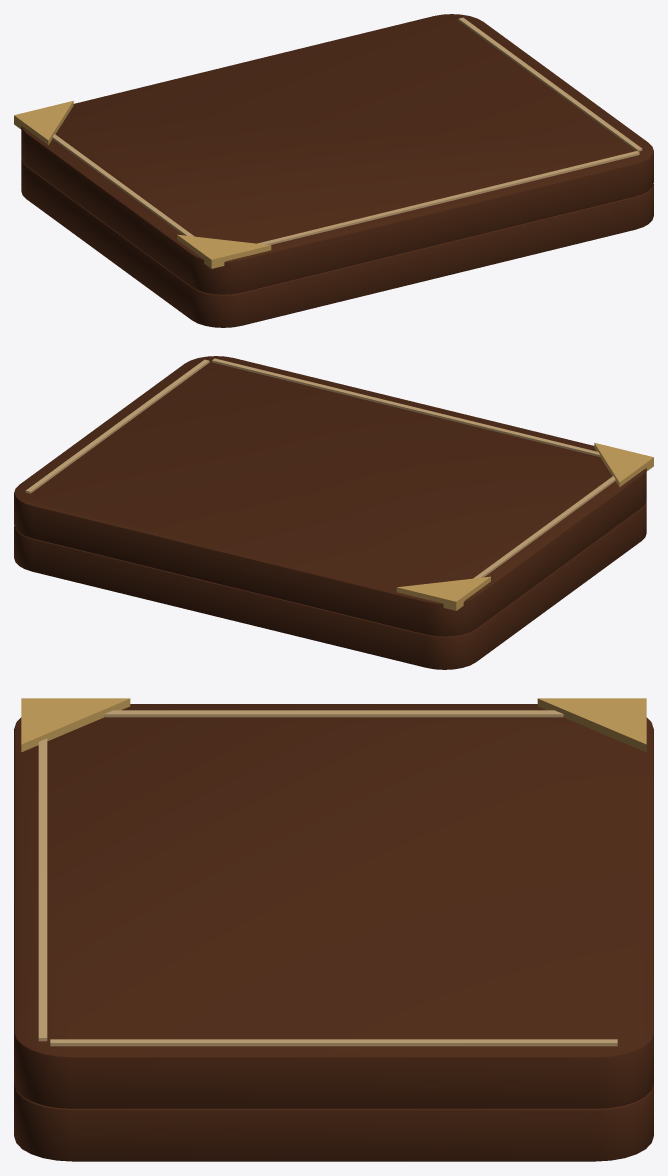
File: wallet_brown.fbx
3 views of the same model, one above another, from view 1: azimuth 30°, elevation 25°; view 2: azimuth 150°, elevation 25°; view 3: azimuth 270°, elevation 25° (orthographic). The views are drawn at different scales.
Parts seen in each view (by area): view 1: Flap, wallet_brown; view 2: Flap, wallet_brown; view 3: Flap, wallet_brown.
Boxes of the visible parts, bbox=[...] form: Flap: bbox=[14, 14, 653, 294]; wallet_brown: bbox=[21, 159, 653, 327]; Flap: bbox=[14, 356, 653, 636]; wallet_brown: bbox=[14, 501, 646, 669]; Flap: bbox=[14, 698, 653, 1108]; wallet_brown: bbox=[14, 1084, 653, 1161].
Bounding box in the file's own units: 0.115 × 0.0172 × 0.088.
